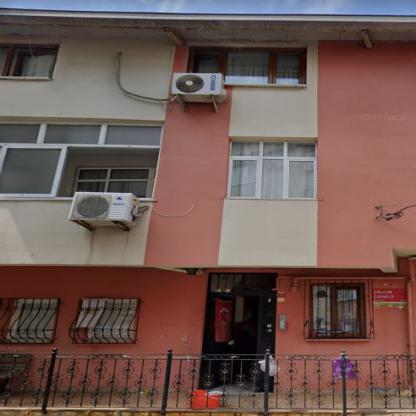door: (201, 294, 237, 388)
window: (0, 124, 162, 194), (228, 141, 317, 198), (192, 50, 301, 84), (313, 286, 360, 335), (77, 168, 150, 197), (0, 47, 58, 77), (90, 303, 133, 339), (14, 303, 56, 338), (212, 274, 272, 291)
